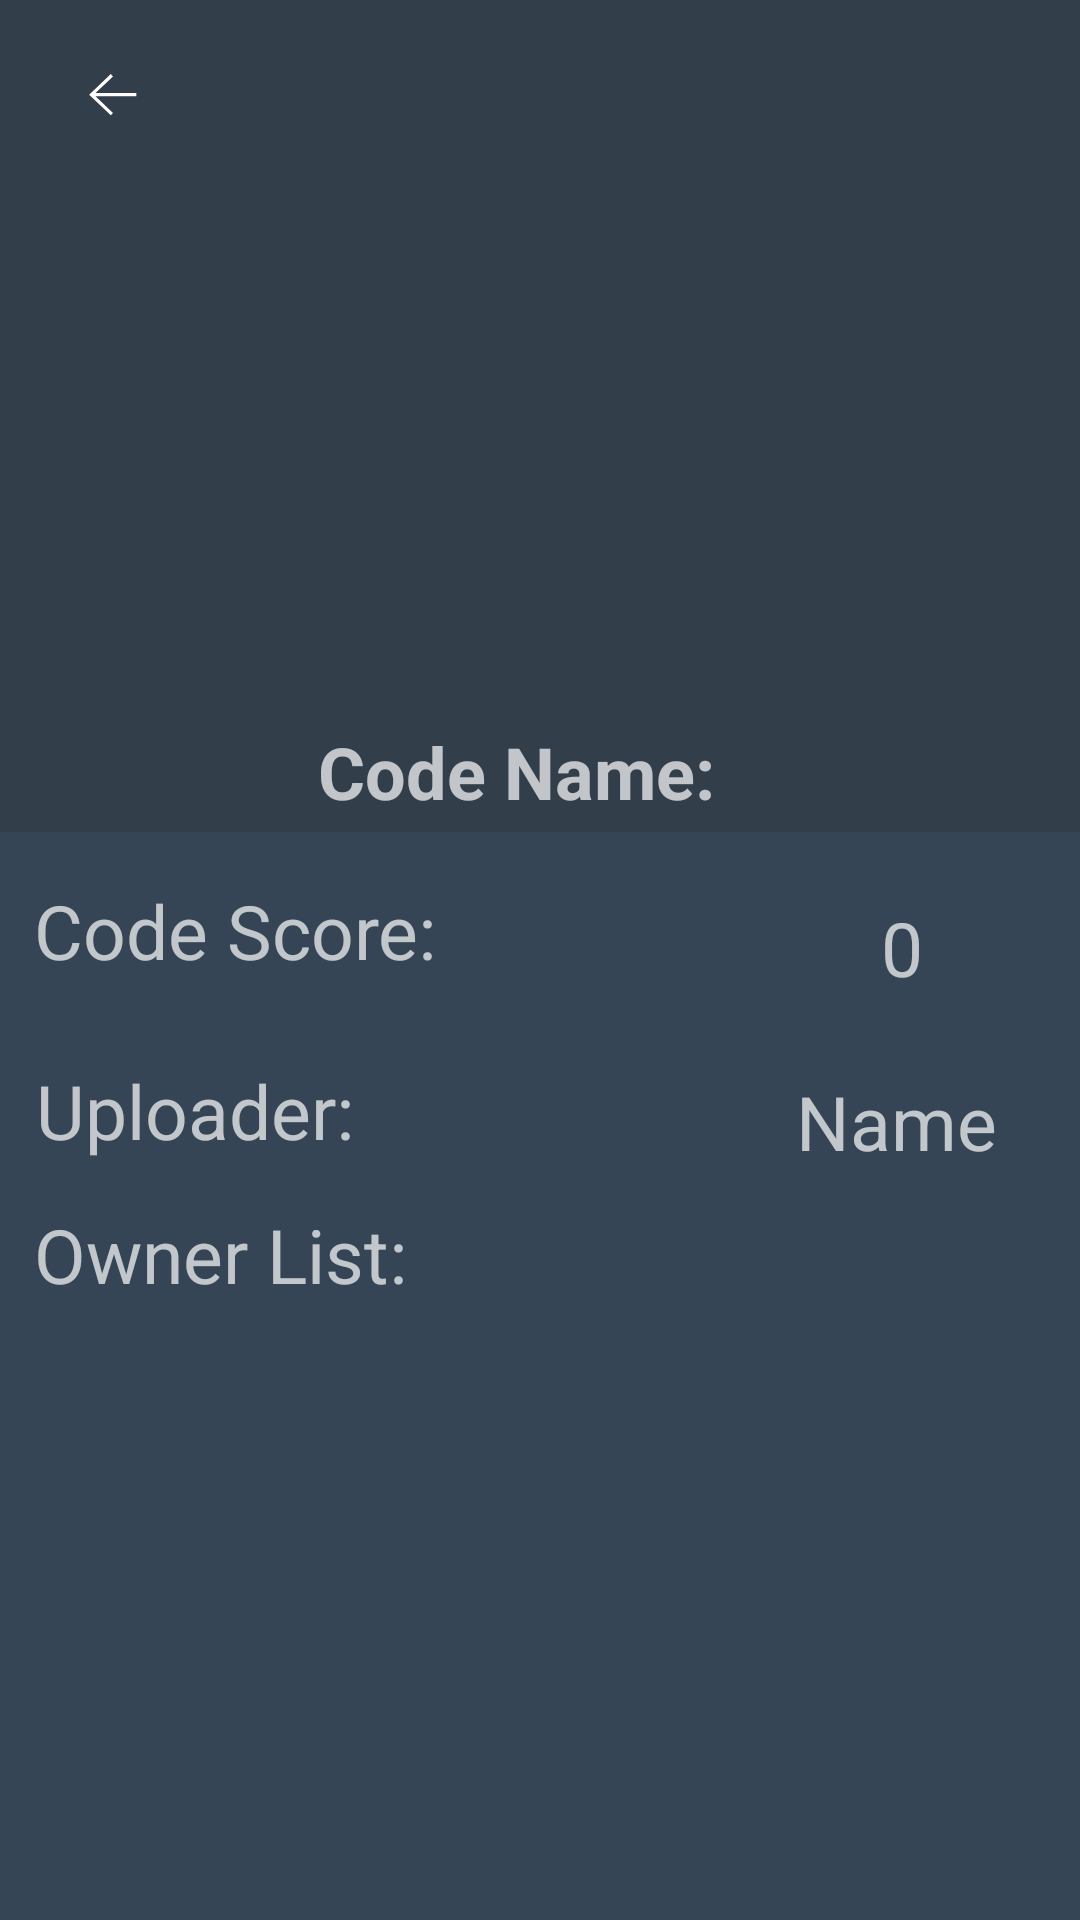

Icons on this 1080w x 1920h Android screen, each with the point to tap as point (x, y):
back arrow: point (113, 94)
